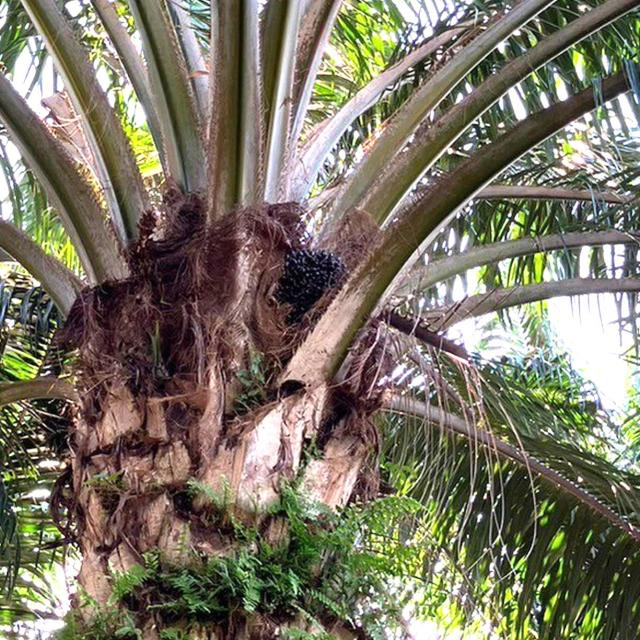almost: (271, 228, 362, 335)
